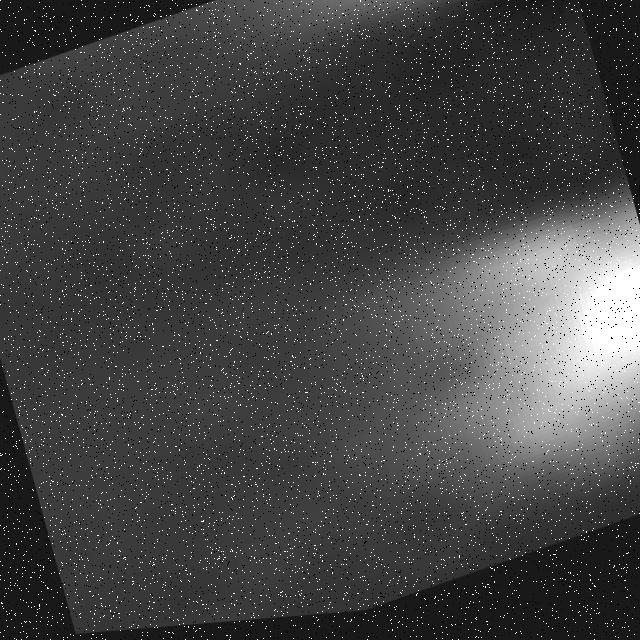person: (383, 197, 640, 543), (169, 1, 576, 129)
